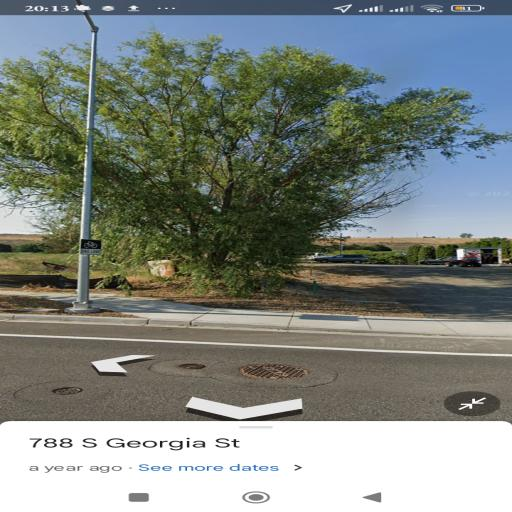Roads: (4, 310, 512, 425)
Trees: (38, 33, 438, 314)
